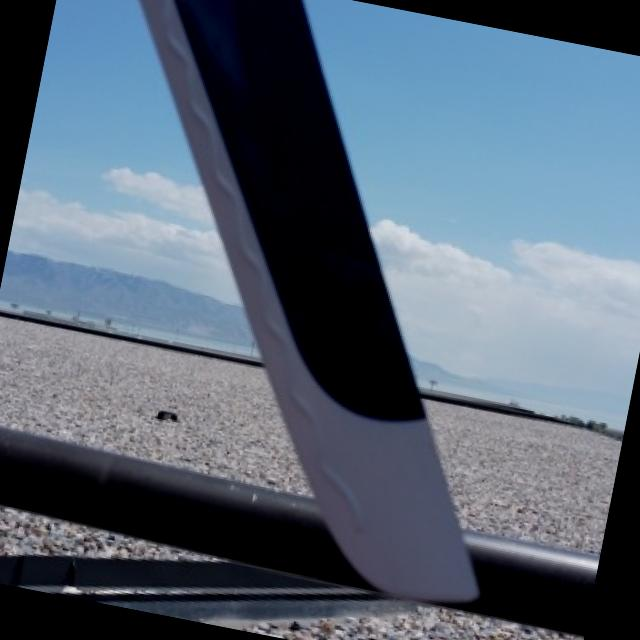healthy: (146, 0, 481, 601), (1, 0, 248, 343)
